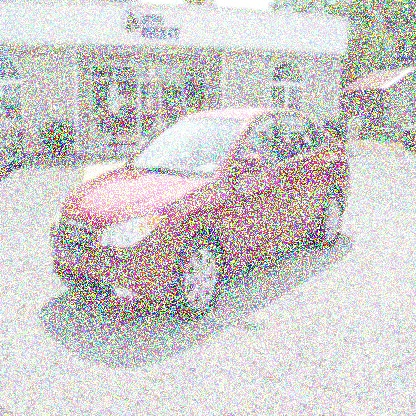Vehicle: (48, 105, 350, 322)
